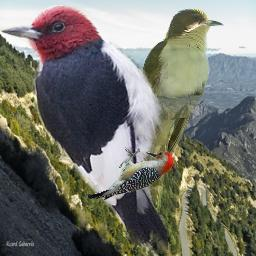Cuckoo: (122, 8, 224, 237)
Woodpecker: (0, 5, 168, 250), (88, 147, 175, 201)
